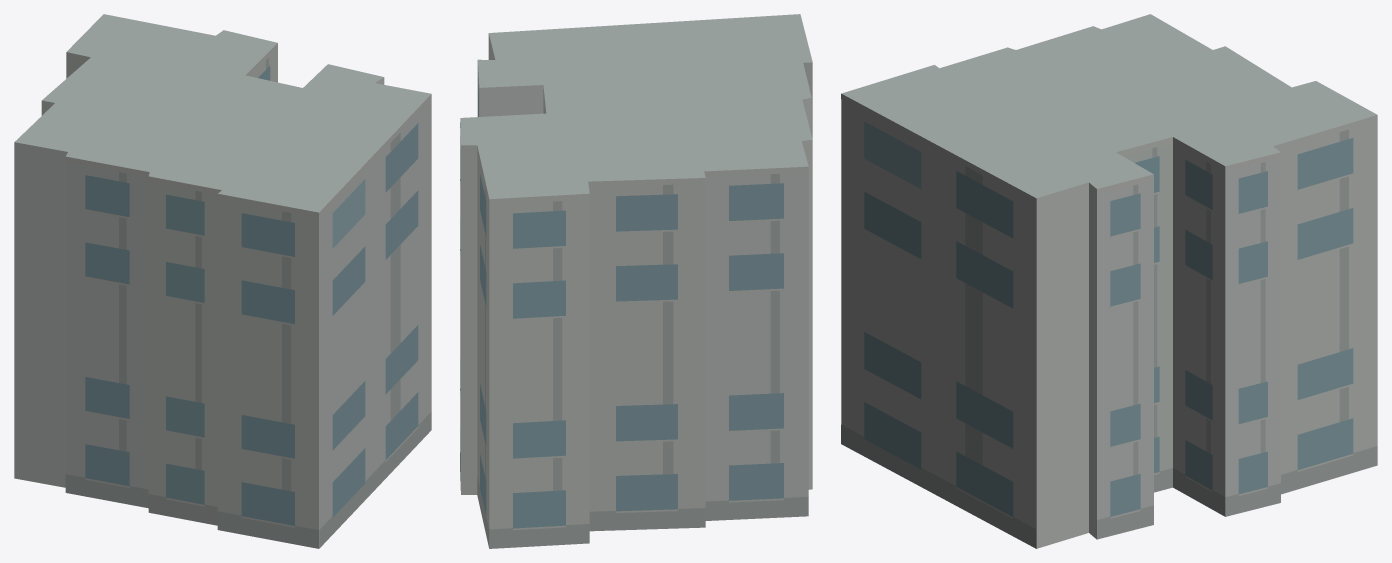
Rendered from survey-upis-32809147.glb.
3 views of the same model, side by side, from view 1: azimuth 30°, elevation 25°; view 2: azimuth 150°, elevation 25°; view 3: azimuth 270°, elevation 25° (orthographic). The views are drawn at different scales.
Parts seen in each view (by area): view 1: survey-upis-32809147.tmp; view 2: survey-upis-32809147.tmp; view 3: survey-upis-32809147.tmp.
Boxes of the visible parts, x1,y1,x2,y2 form: survey-upis-32809147.tmp: (14, 14, 431, 548); survey-upis-32809147.tmp: (460, 14, 812, 548); survey-upis-32809147.tmp: (841, 14, 1377, 548).
Size of the model in its own units: 16.46 by 14.59 by 20.24.
